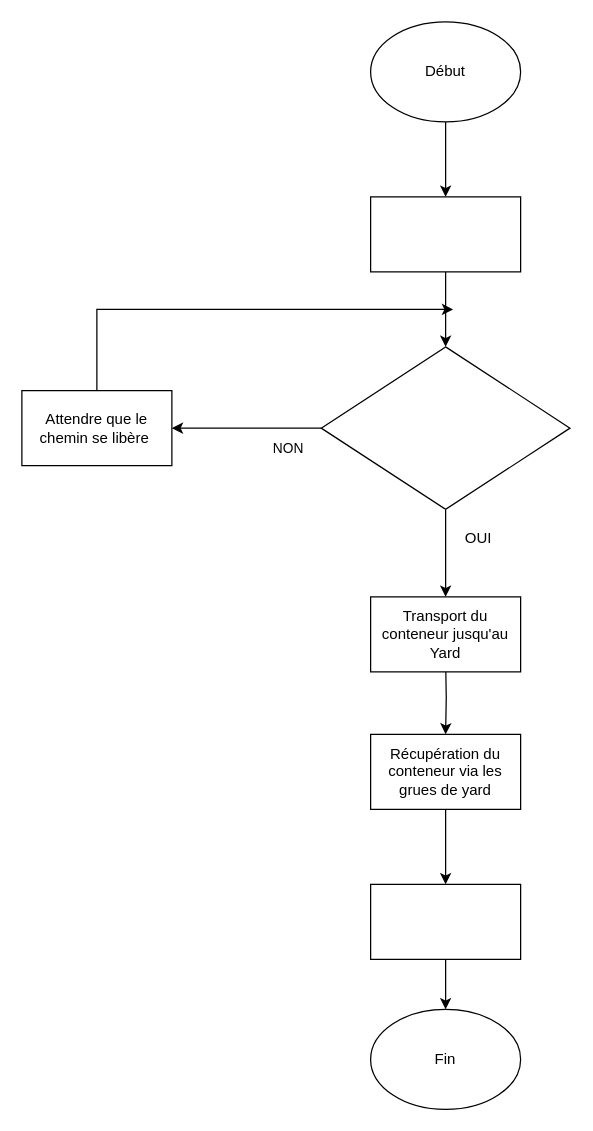
This 593x1131 diagram has some shape labels left out. Each missing label, with the box of its shape:
Chargement du conteneur sur le mode de transport interne: (369, 196, 521, 272)
Le Chemin jusqu'au yard est-il disponible ?: (320, 346, 570, 509)
stockage du conteneur dans le yard: (369, 883, 521, 959)
